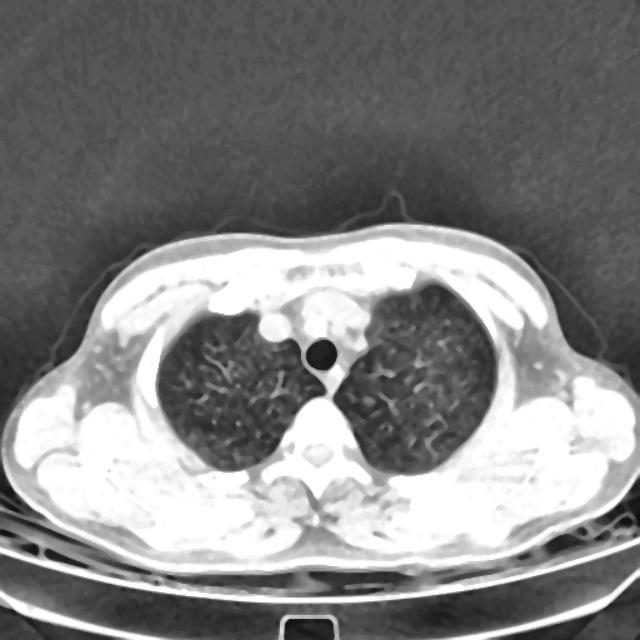covid: (1, 219, 639, 578)
